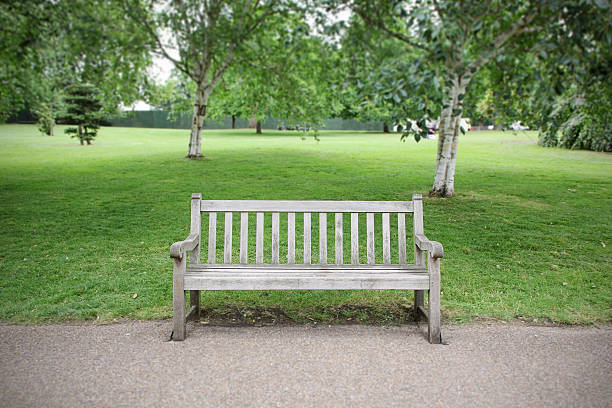Bench: (169, 194, 446, 344)
